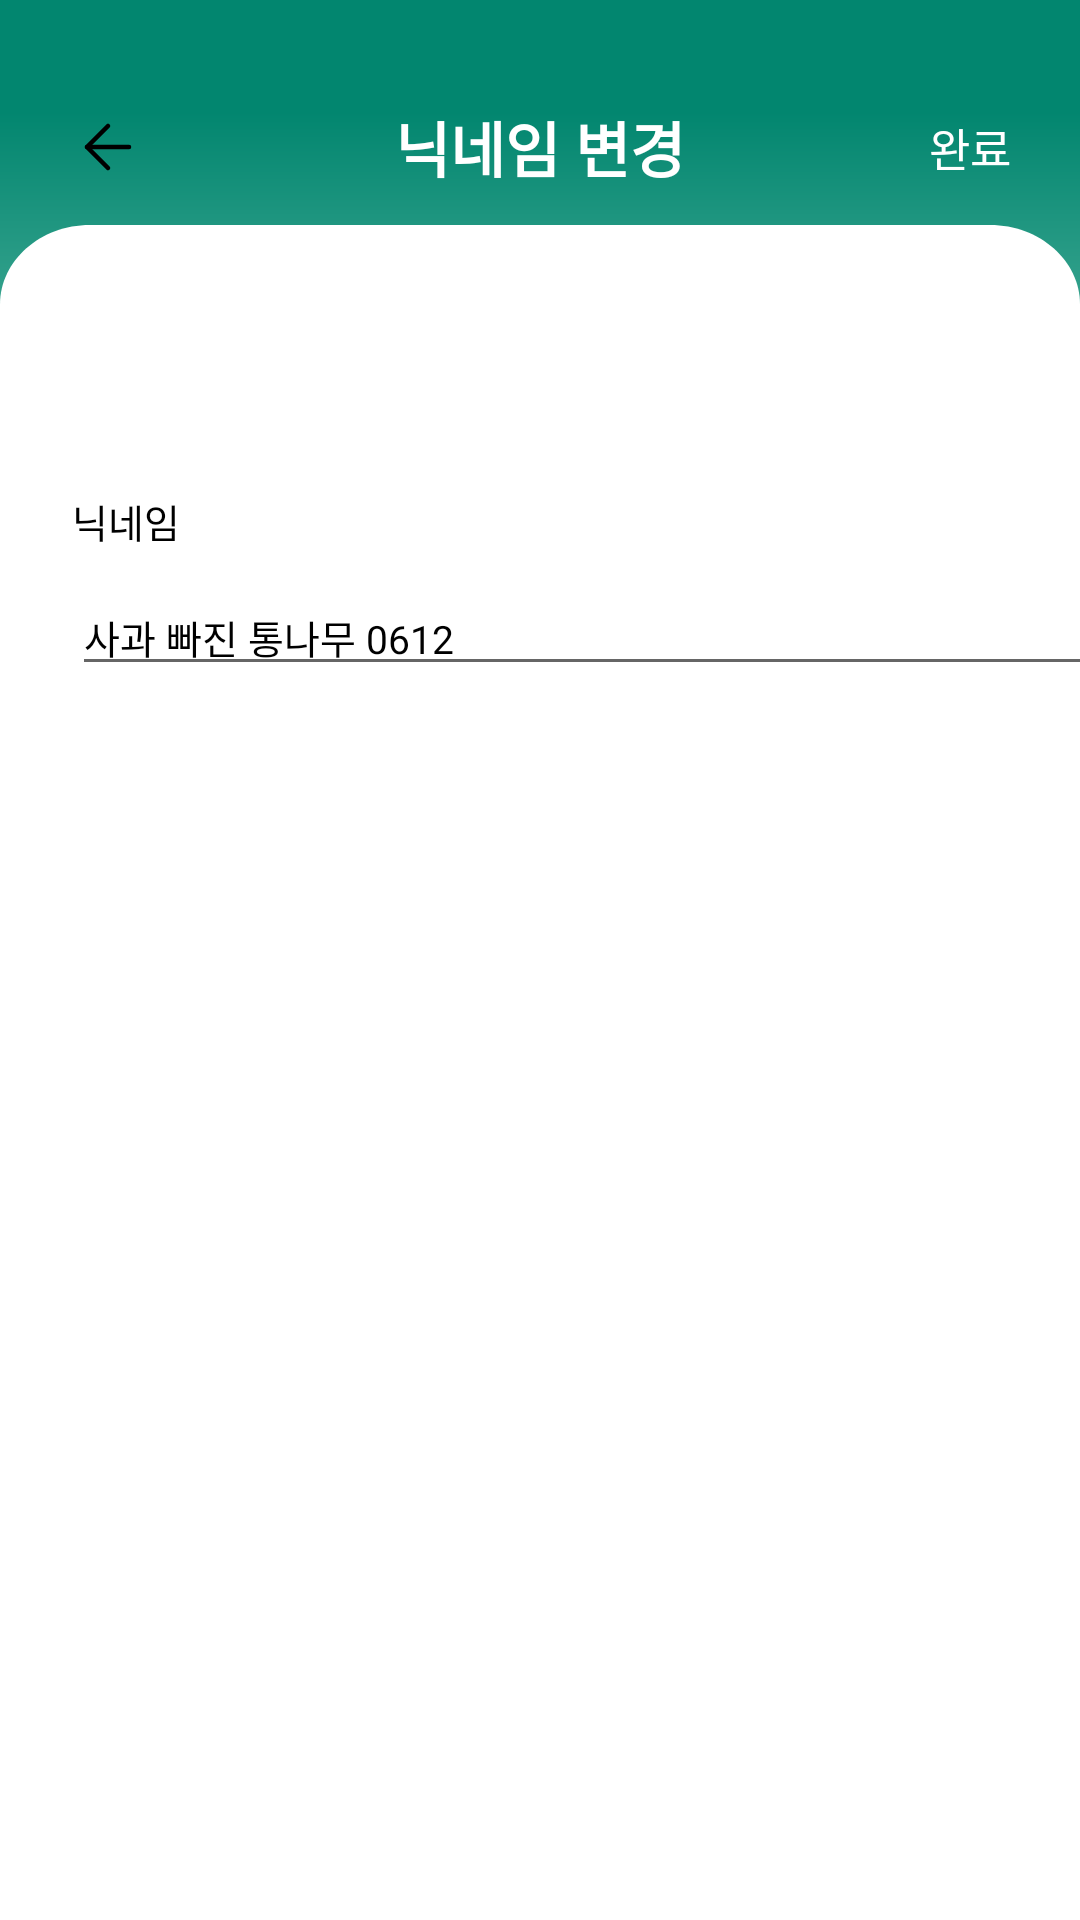

Icons on this 1080 × 1920 Android screen, each with the point to tap as point (x, y):
arrow left: point (108, 147)
